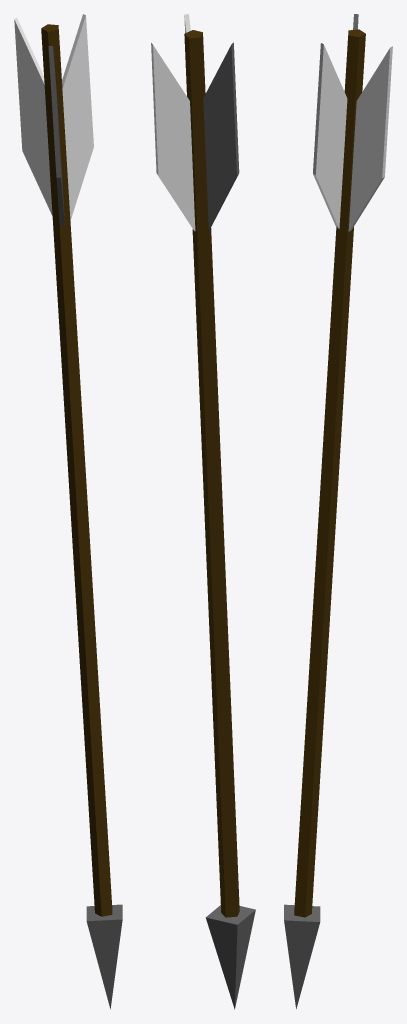
Rendered from Arrow.fbx.
3 renders of one model, left to right at view 1: azimuth 90°, elevation 25°; view 2: azimuth 150°, elevation 25°; view 3: azimuth 270°, elevation 25°, orthographic.
Visible parts, largest first — view 1: Arrow; view 2: Arrow; view 3: Arrow.
Boxes of the visible parts, <box> form: Arrow: <box>14,14,122,1009</box>; Arrow: <box>151,14,255,1009</box>; Arrow: <box>284,14,392,1008</box>.
Bounding box in the file's own units: 20.46 × 295 × 29.59.
